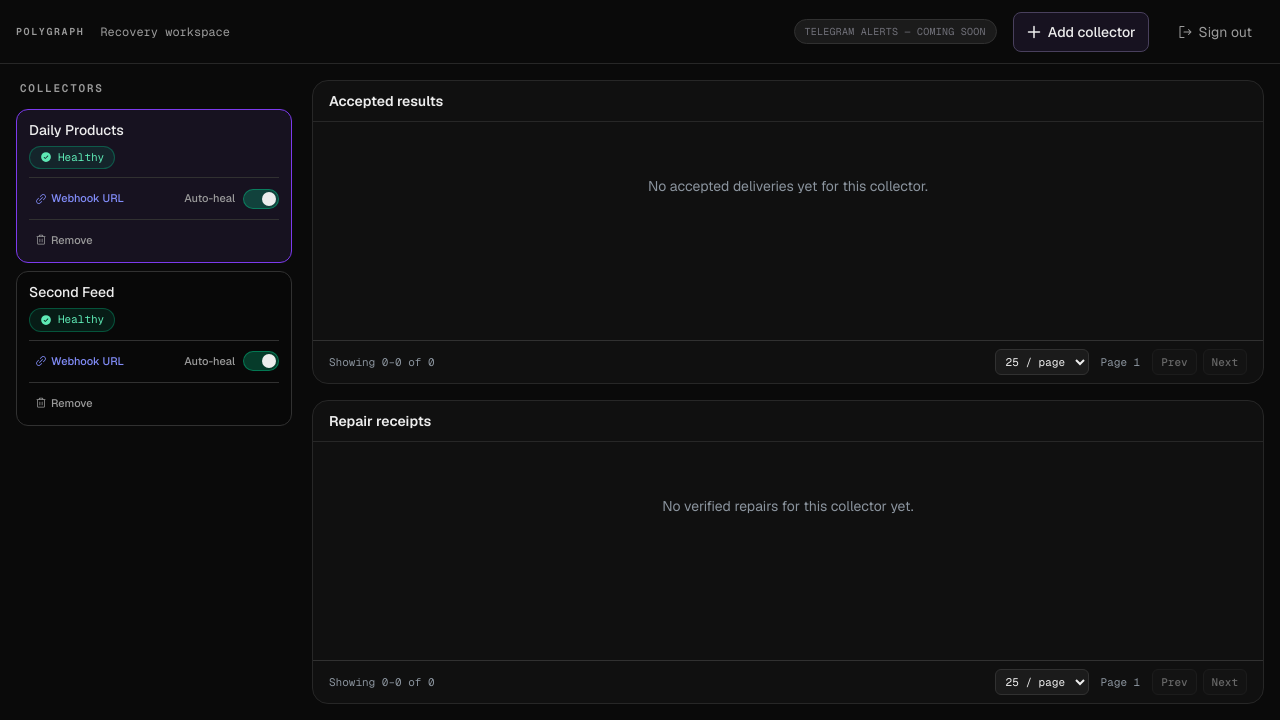
CollectorRail — per-collector webhook URL › the URL never appears outside the dialog, and is gone again once it is closed
Click the 1st button "Webhook URL" at point(80, 199), box [29,186,130,211]
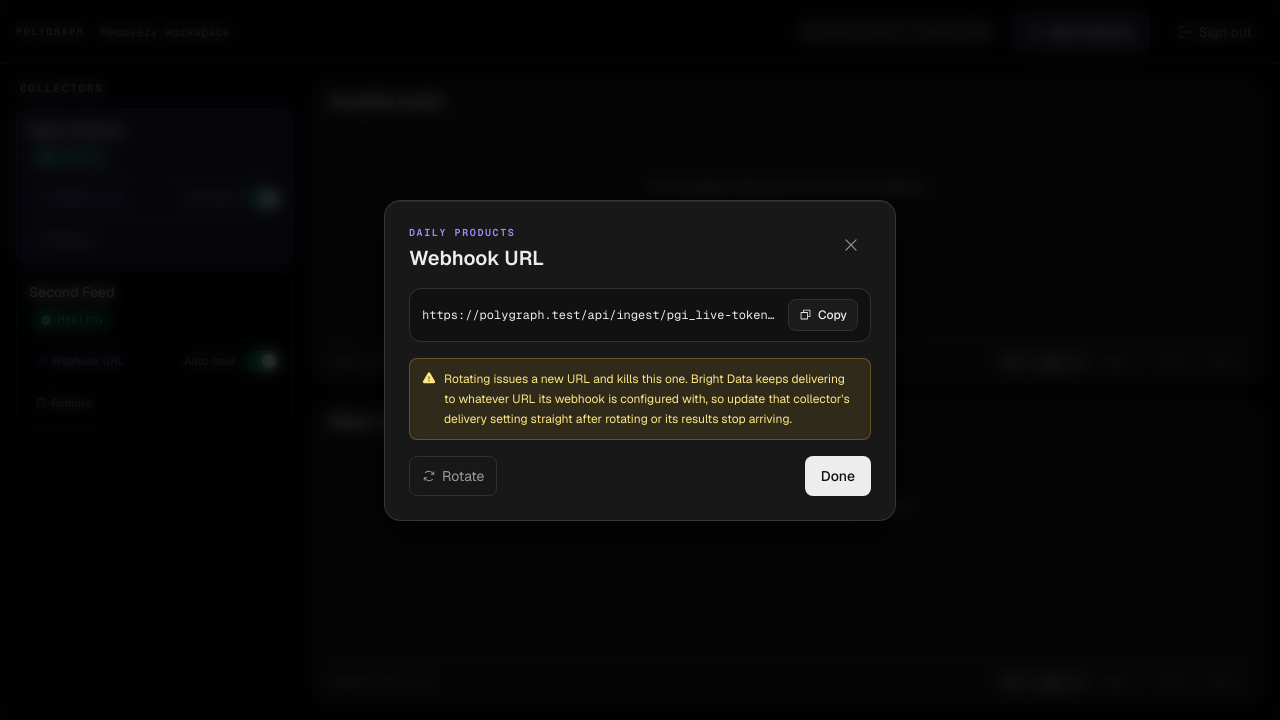
Expected: the text "https://polygraph.test/api/ingest/pgi_live-token-one" is shown, [422,306,780,322]
Click the button "Done" at point(838, 476), box [805,456,871,496]
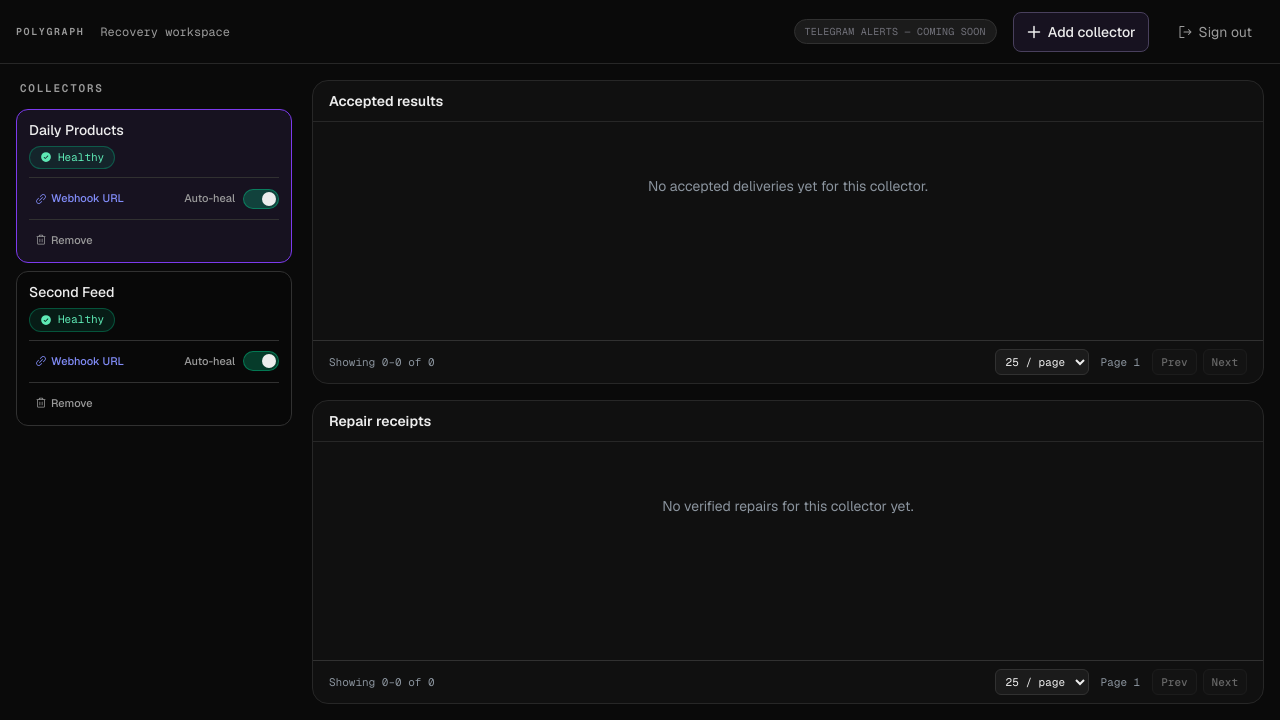
Expected: the text "pgi_" is gone
